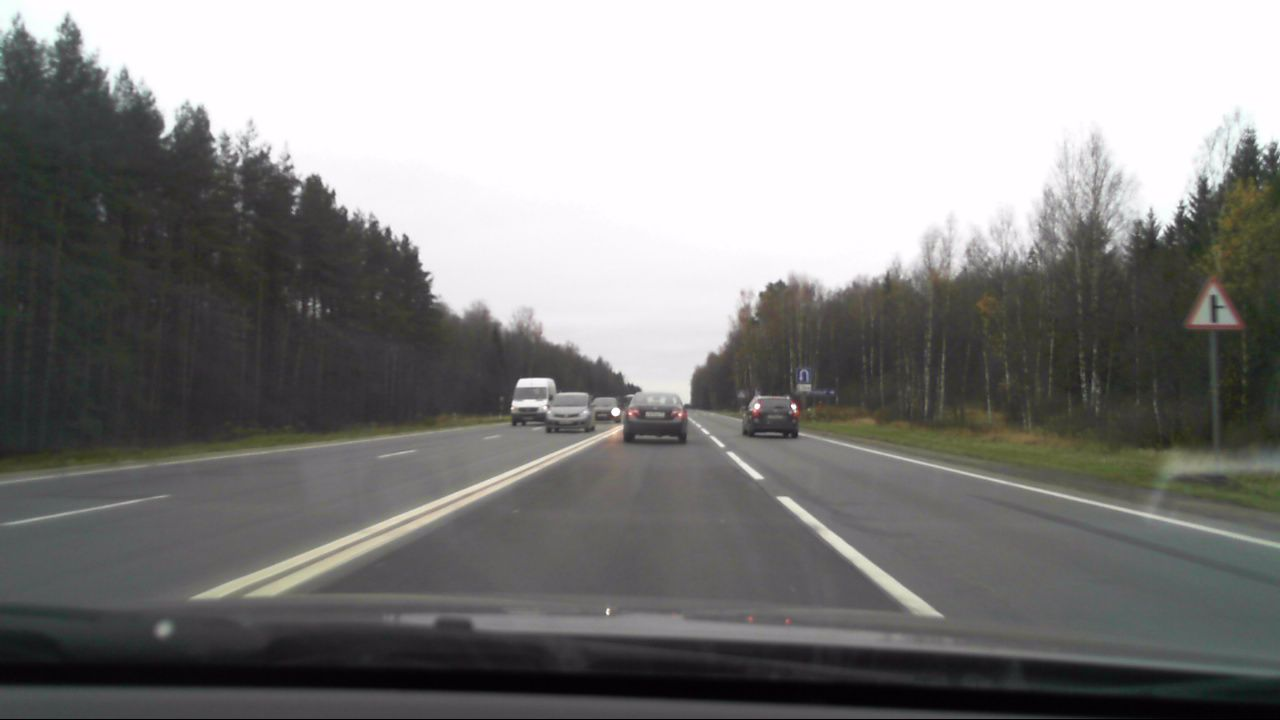U-turn: (797, 368, 811, 383)
